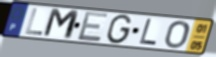E: (76, 11, 110, 43)
G: (105, 14, 134, 45)
L: (137, 18, 158, 47), (24, 7, 44, 37)
M: (41, 7, 81, 41)
O: (163, 20, 191, 50)
